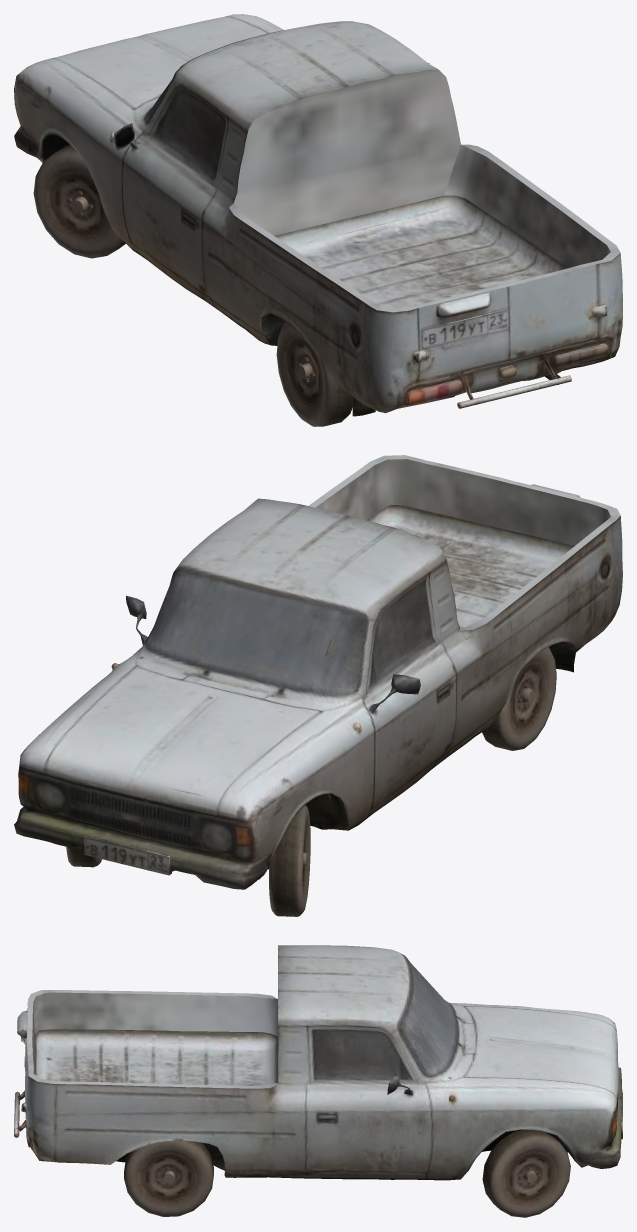
The model's file is izh.glb.
3 views of the same model, one above another, from view 1: azimuth 30°, elevation 25°; view 2: azimuth 150°, elevation 25°; view 3: azimuth 270°, elevation 25° (orthographic). The views are drawn at different scales.
Visible parts, largest first — view 1: body, wheel_frontLeft, wheel_backLeft; view 2: body, wheel_backLeft, wheel_frontLeft; view 3: body, wheel_backRight, wheel_frontRight.
Part boxes in pixels (left/top/right/bottom): body: left=14, top=14, right=622, bottom=426; wheel_frontLeft: left=49, top=145, right=117, bottom=258; wheel_backLeft: left=276, top=322, right=329, bottom=425; body: left=14, top=455, right=622, bottom=915; wheel_backLeft: left=482, top=647, right=556, bottom=750; wheel_frontLeft: left=269, top=805, right=310, bottom=916; body: left=14, top=945, right=622, bottom=1215; wheel_backRight: left=124, top=1140, right=210, bottom=1216; wheel_frontRight: left=482, top=1129, right=569, bottom=1217.
Size of the model in its own units: 1.99 by 1.6 by 4.4.
1 material, 1 textured.
